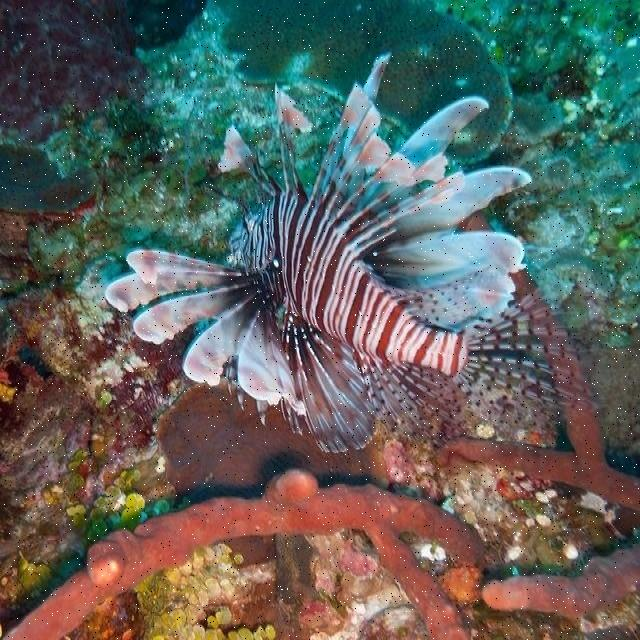fish: (104, 53, 615, 455)
reefs: (1, 466, 485, 639), (444, 416, 639, 513), (479, 544, 639, 626)
